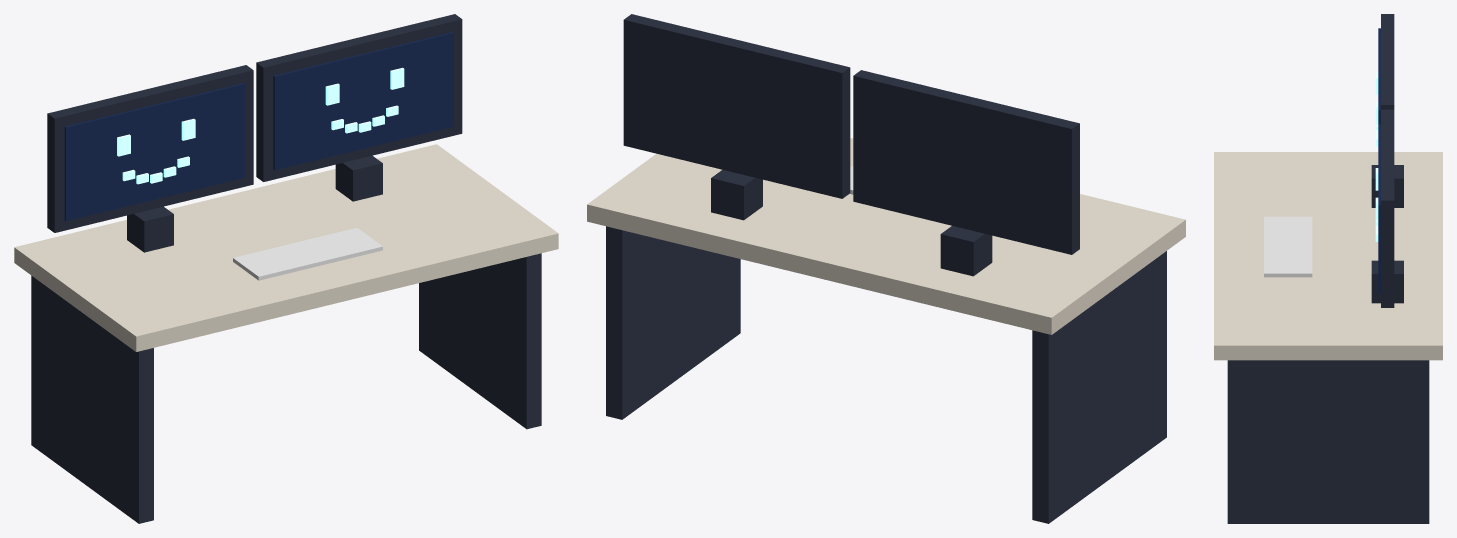
The model's file is desk.glb.
3 views of the same model, side by side, from view 1: azimuth 30°, elevation 25°; view 2: azimuth 150°, elevation 25°; view 3: azimuth 270°, elevation 25° (orthographic). The views are drawn at different scales.
Visible parts, largest first — view 1: desk_top, desk_leg, mon_screen.001, mon_screen, desk_leg.001, mon_body, mon_body.001, keyboard, mon_foot.001, mon_foot; view 2: desk_top, mon_body.001, mon_body, desk_leg, desk_leg.001, mon_foot, mon_foot.001; view 3: desk_top, desk_leg.001, keyboard, mon_body.001, mon_body, mon_foot.001, mon_foot, mon_screen.001, mon_screen.
Boxes of the visible parts, x1,y1,x2,y2 form: desk_top: (14, 144, 558, 351); desk_leg: (31, 275, 153, 523); mon_screen.001: (273, 32, 453, 170); mon_screen: (64, 83, 244, 221); desk_leg.001: (419, 253, 541, 429); mon_body: (47, 65, 253, 232); mon_body.001: (256, 14, 462, 181); keyboard: (233, 227, 382, 280); mon_foot.001: (335, 155, 382, 201); mon_foot: (127, 206, 173, 252); desk_top: (587, 138, 1185, 334); mon_body.001: (623, 14, 850, 198); mon_body: (853, 70, 1079, 254); desk_leg: (1032, 251, 1166, 523); desk_leg.001: (606, 226, 740, 419); mon_foot: (940, 226, 992, 276); mon_foot.001: (711, 170, 762, 220); desk_top: (1214, 152, 1442, 360); desk_leg.001: (1227, 360, 1429, 523); keyboard: (1264, 216, 1312, 277); mon_body.001: (1381, 109, 1394, 307); mon_body: (1381, 14, 1394, 109); mon_foot.001: (1371, 260, 1403, 303); mon_foot: (1371, 165, 1403, 207); mon_screen.001: (1378, 124, 1380, 293); mon_screen: (1378, 28, 1380, 123).
Size of the model in its own units: 1.7 by 1.33 by 0.85.
